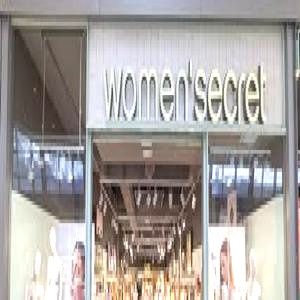women_secret: (196, 27, 300, 80)
